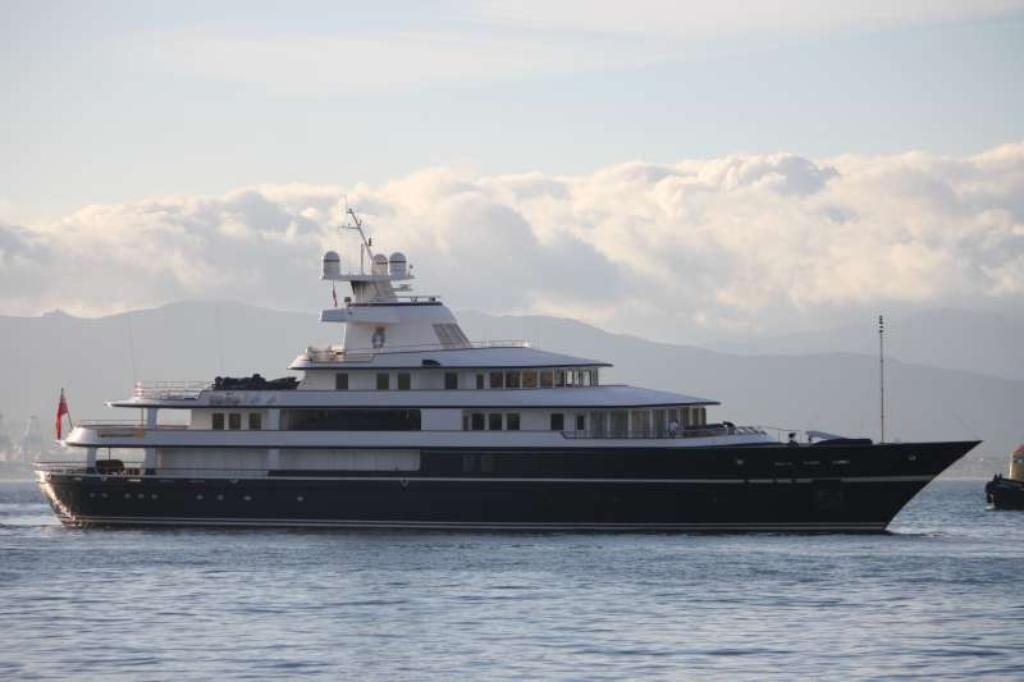PassengerShip: (14, 226, 984, 534)
